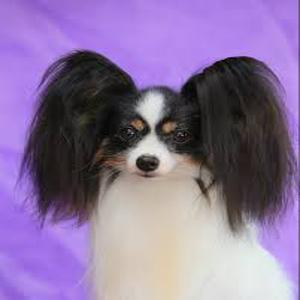yell: (22, 50, 300, 300)
